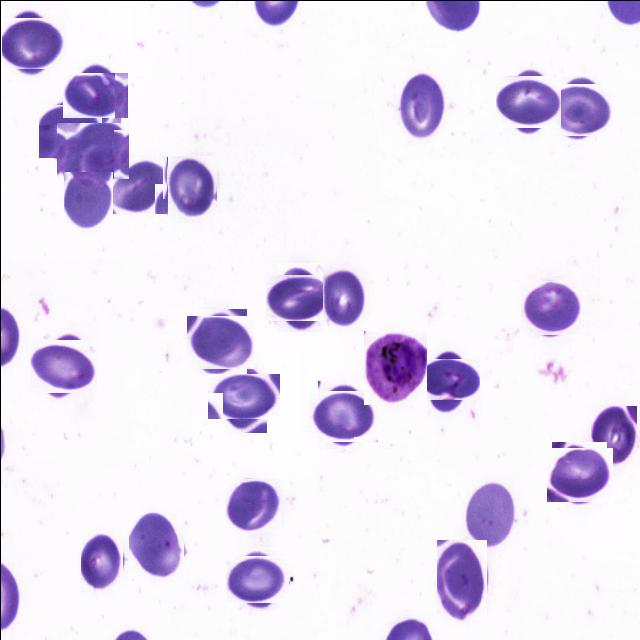red blood cell: (60, 118, 124, 182), (436, 539, 486, 619), (128, 510, 183, 580), (0, 12, 61, 74), (32, 334, 93, 396), (462, 480, 516, 550), (189, 312, 249, 372), (312, 385, 372, 445), (548, 79, 608, 139), (548, 444, 608, 504), (214, 366, 272, 426), (498, 72, 558, 130), (108, 156, 167, 214), (41, 100, 98, 160), (520, 278, 578, 336), (395, 72, 445, 139), (270, 268, 328, 325), (166, 155, 216, 218), (228, 550, 284, 606), (225, 477, 280, 533), (66, 67, 122, 122), (420, 352, 473, 406), (63, 171, 112, 229), (590, 405, 636, 465), (80, 531, 122, 592), (322, 268, 364, 328)
schizont: (363, 330, 426, 404)
